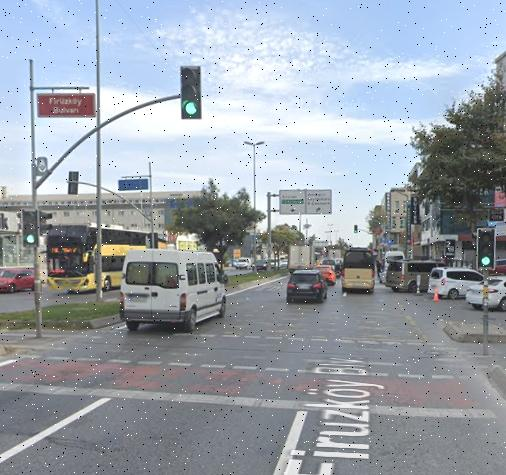greenlight: (181, 66, 202, 118), (478, 229, 494, 266), (23, 211, 38, 242)
